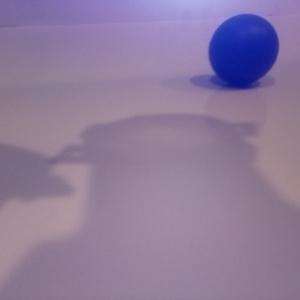dead_ball: (208, 14, 280, 86)
